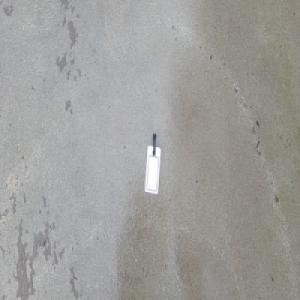LuggageTag: (143, 132, 161, 194)
